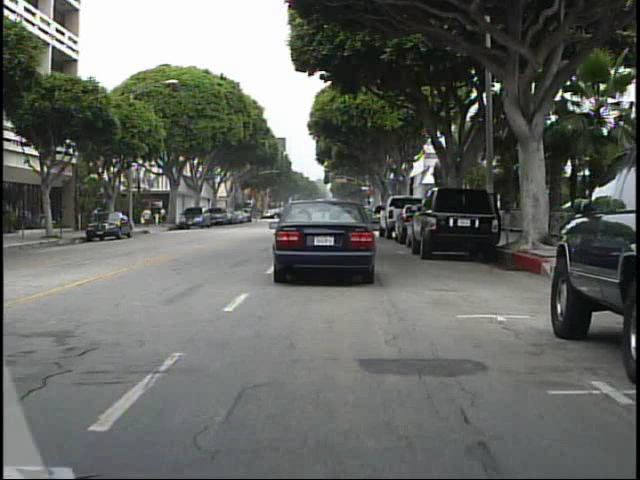person: (142, 204, 158, 233), (159, 203, 172, 230)
